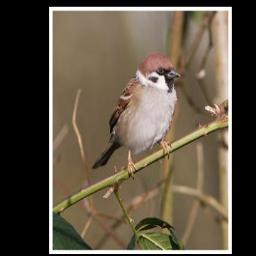Sparrow: (88, 51, 183, 180)
